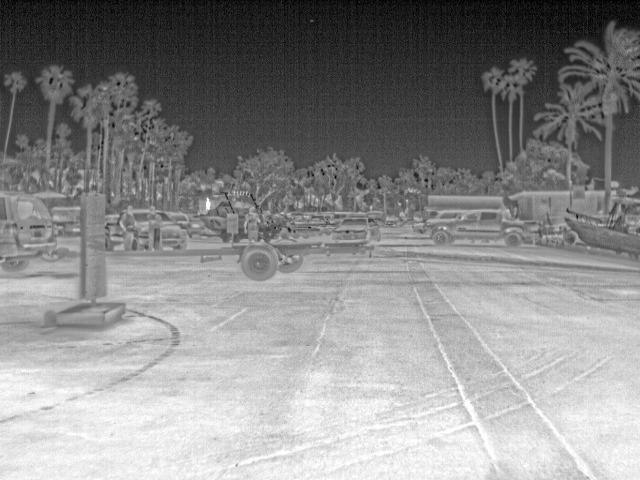car: (1, 192, 61, 273), (427, 209, 540, 249), (330, 215, 382, 243), (162, 212, 188, 249), (51, 205, 81, 237), (424, 209, 472, 225), (135, 206, 149, 252)
person: (242, 205, 263, 243), (118, 206, 134, 252), (148, 205, 163, 253)
